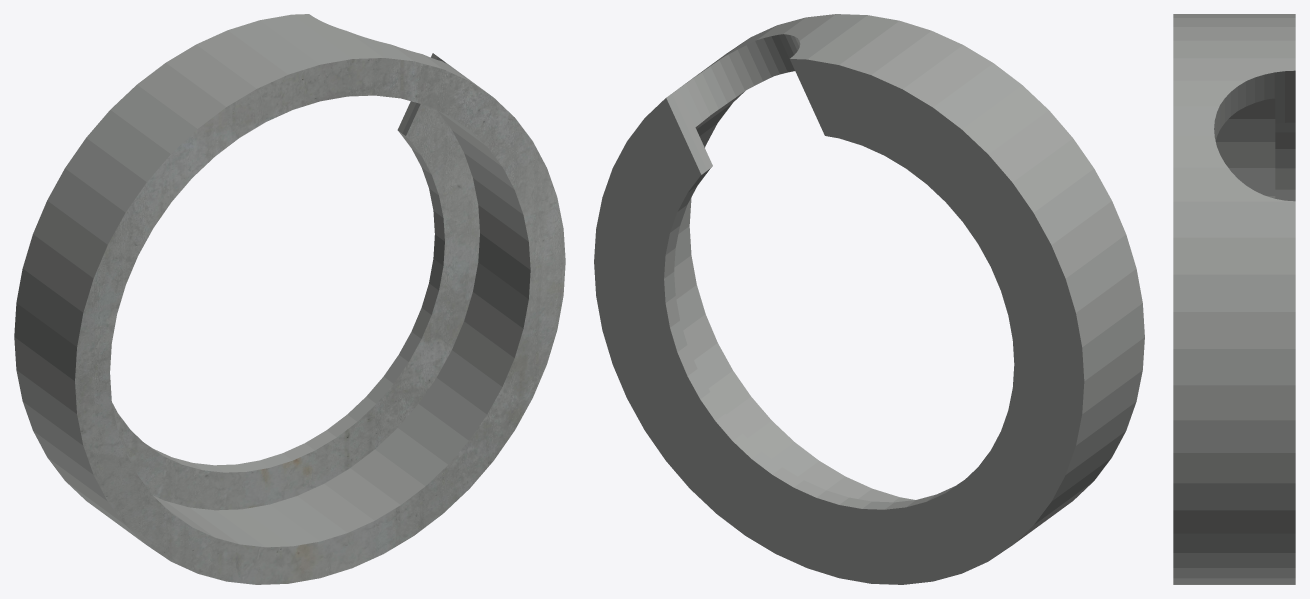
Rendered from pool_002.obj.
3 views of the same model, side by side, from view 1: azimuth 30°, elevation 25°; view 2: azimuth 150°, elevation 25°; view 3: azimuth 270°, elevation 25° (orthographic).
Bounding box in the file's own units: 14 × 14 × 3.
1 material, 1 textured.
